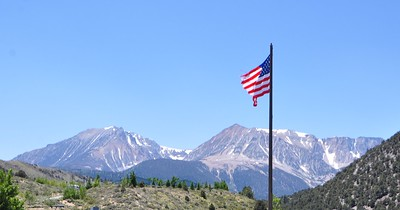America flag: (239, 51, 271, 108)
